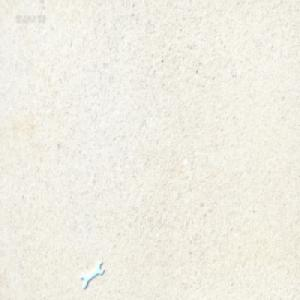Wrench: (82, 261, 107, 289)
